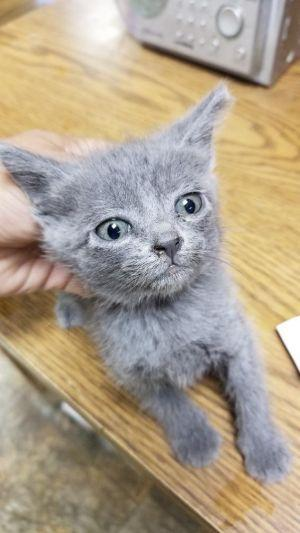rblue: (17, 81, 233, 338)
